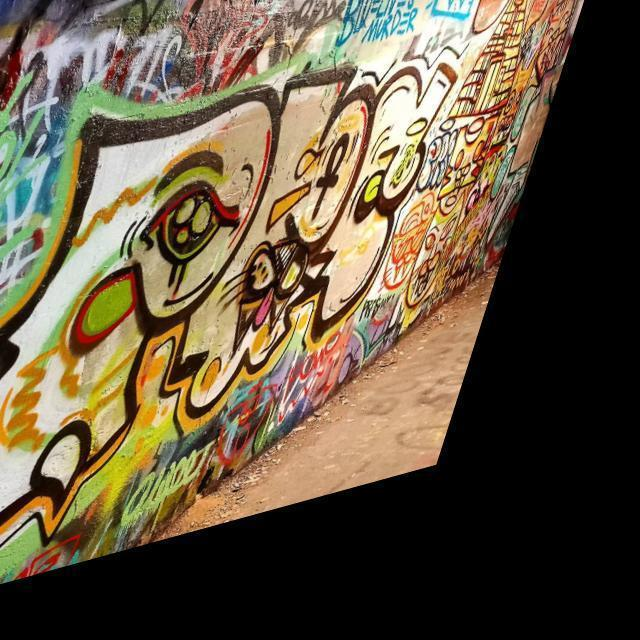nonspitting: (0, 0, 579, 585)
